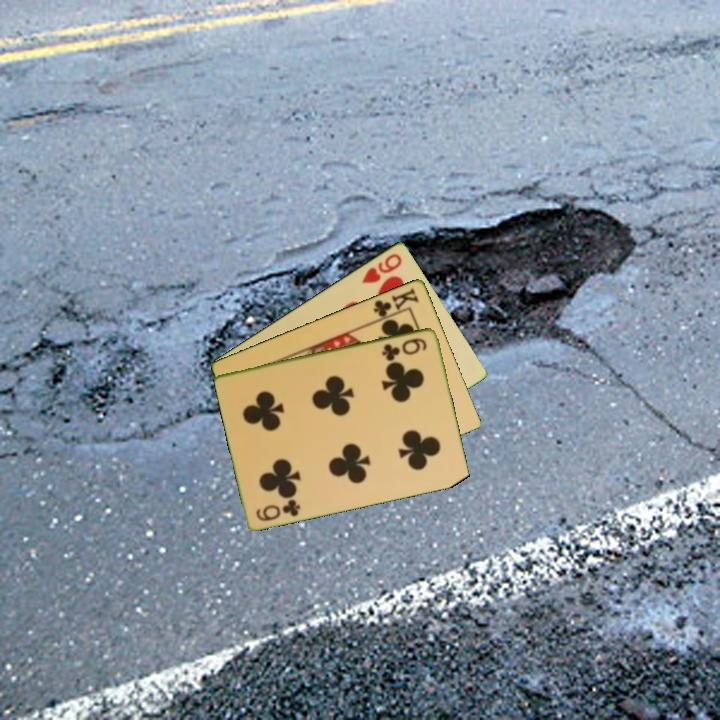6c: (378, 334, 430, 363), (253, 495, 304, 524)
9h: (359, 249, 405, 286)
Kc: (370, 284, 422, 323)
